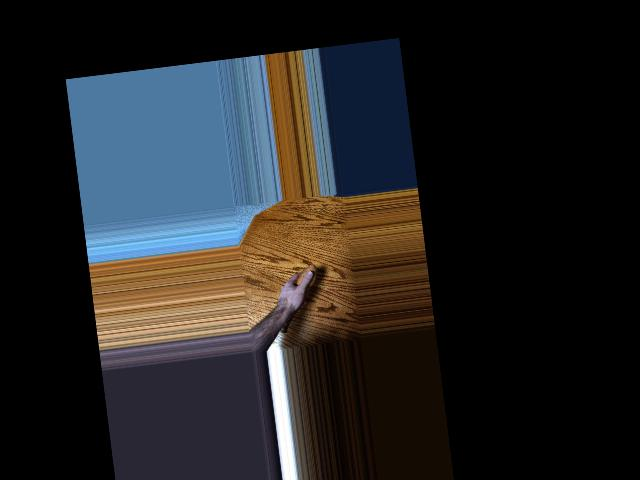sweet_potato: (269, 263, 323, 336)
